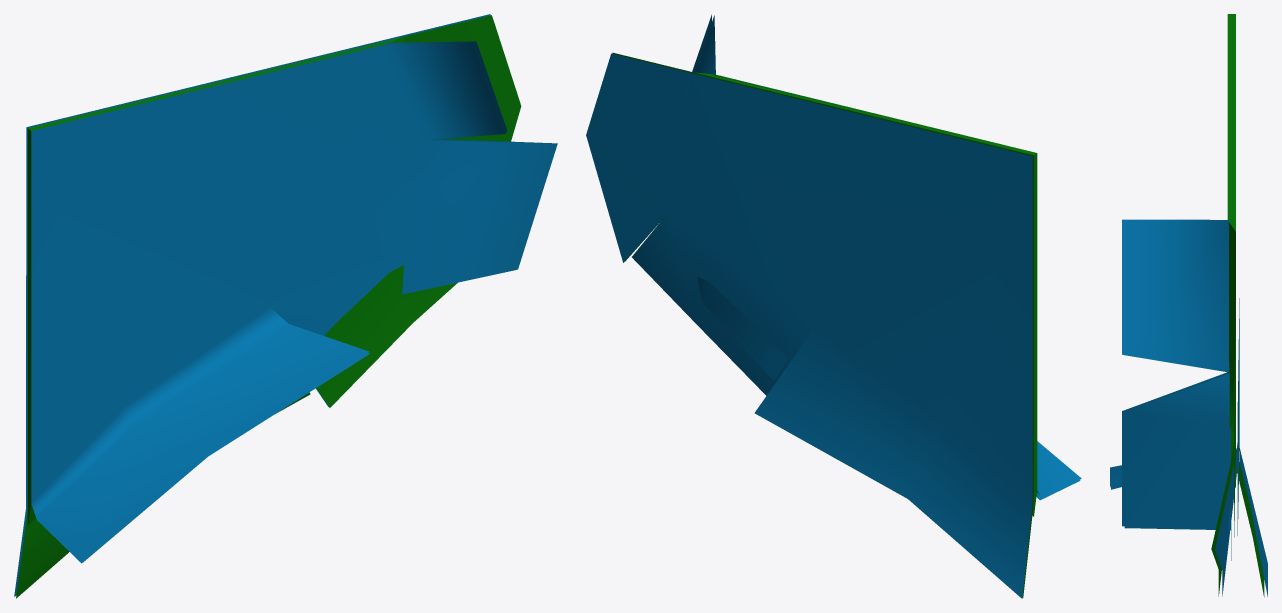
The model's file is DBK_Drywall_Prop_Mid_B.fbx.
3 views of the same model, side by side, from view 1: azimuth 30°, elevation 25°; view 2: azimuth 150°, elevation 25°; view 3: azimuth 270°, elevation 25° (orthographic). The views are drawn at different scales.
Visible parts, largest first — view 1: DBK_Drywall_Prop_Mid_B; view 2: DBK_Drywall_Prop_Mid_B; view 3: DBK_Drywall_Prop_Mid_B.
Boxes of the visible parts, left/top/right/bottom form: DBK_Drywall_Prop_Mid_B: left=14, top=14, right=557, bottom=598; DBK_Drywall_Prop_Mid_B: left=586, top=14, right=1081, bottom=598; DBK_Drywall_Prop_Mid_B: left=1110, top=14, right=1267, bottom=597.
Size of what is drawn, in the model's own units: 164 by 159 by 38.06.
